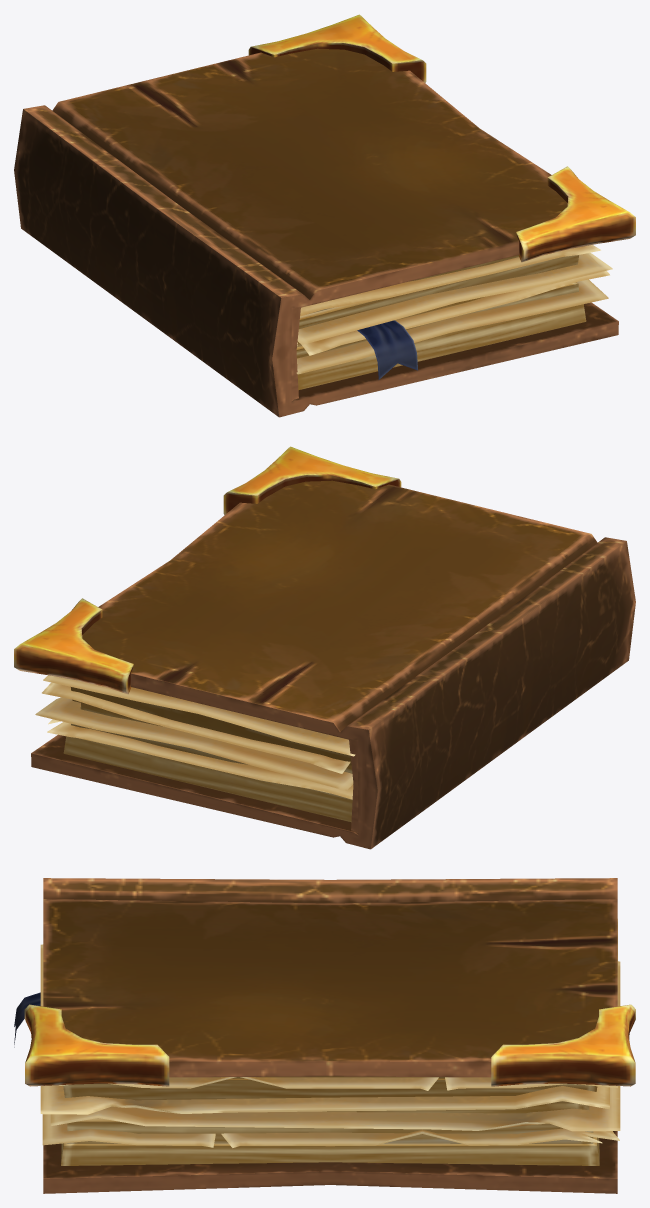
File: 309_a_book.fbx
The picture shows the model from 3 angles, top to bottom: view 1: azimuth 30°, elevation 25°; view 2: azimuth 150°, elevation 25°; view 3: azimuth 270°, elevation 25°; orthographic projection. The views are drawn at different scales.
Parts seen in each view (by area): view 1: 309_a_book; view 2: 309_a_book; view 3: 309_a_book.
Boxes of the visible parts, <box> form: 309_a_book: <box>14,14,635,417</box>; 309_a_book: <box>14,446,635,849</box>; 309_a_book: <box>14,878,635,1193</box>.
Bounding box in the file's own units: 31.59 × 10.69 × 43.02.
